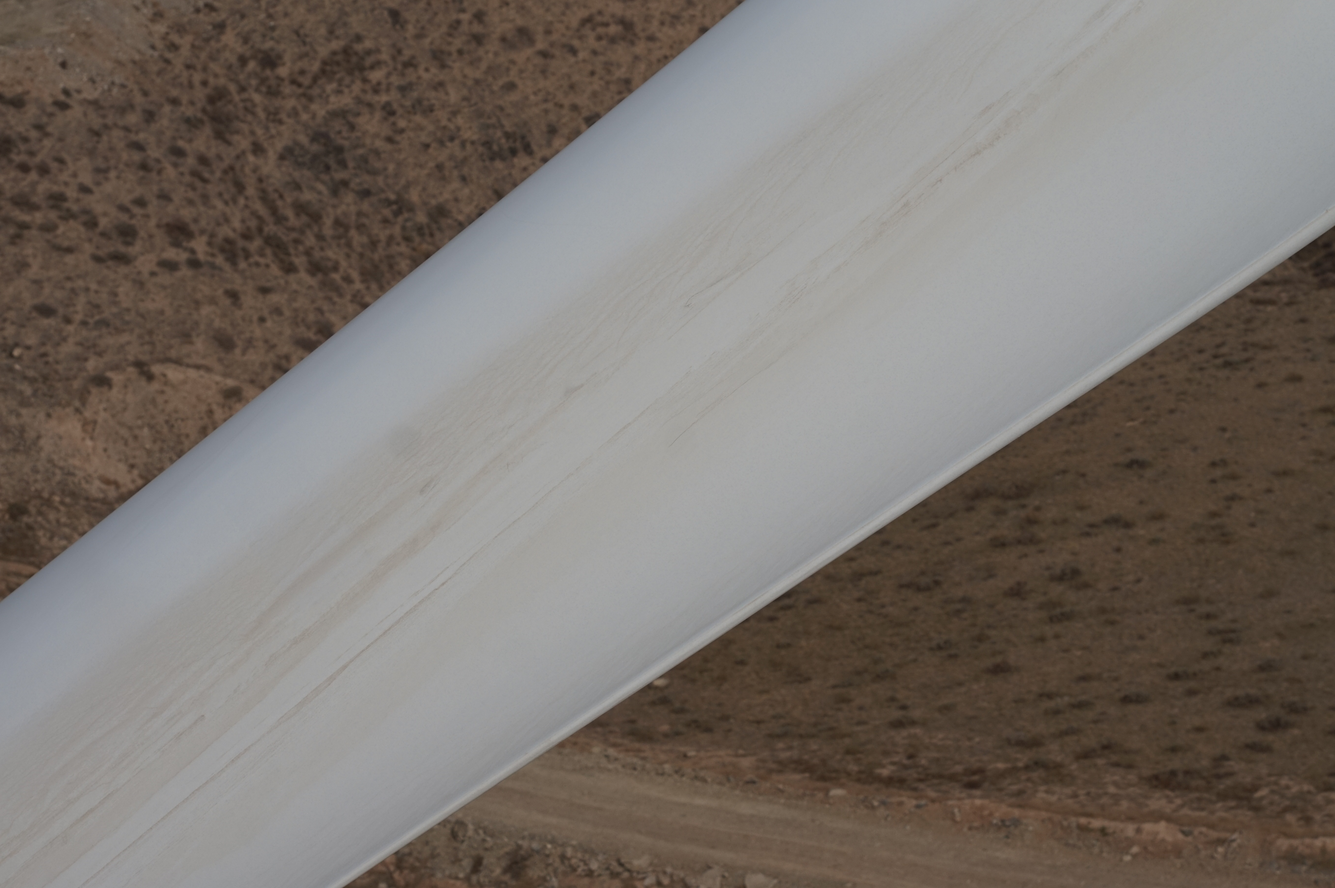Dirt: (3, 4, 1276, 886)
